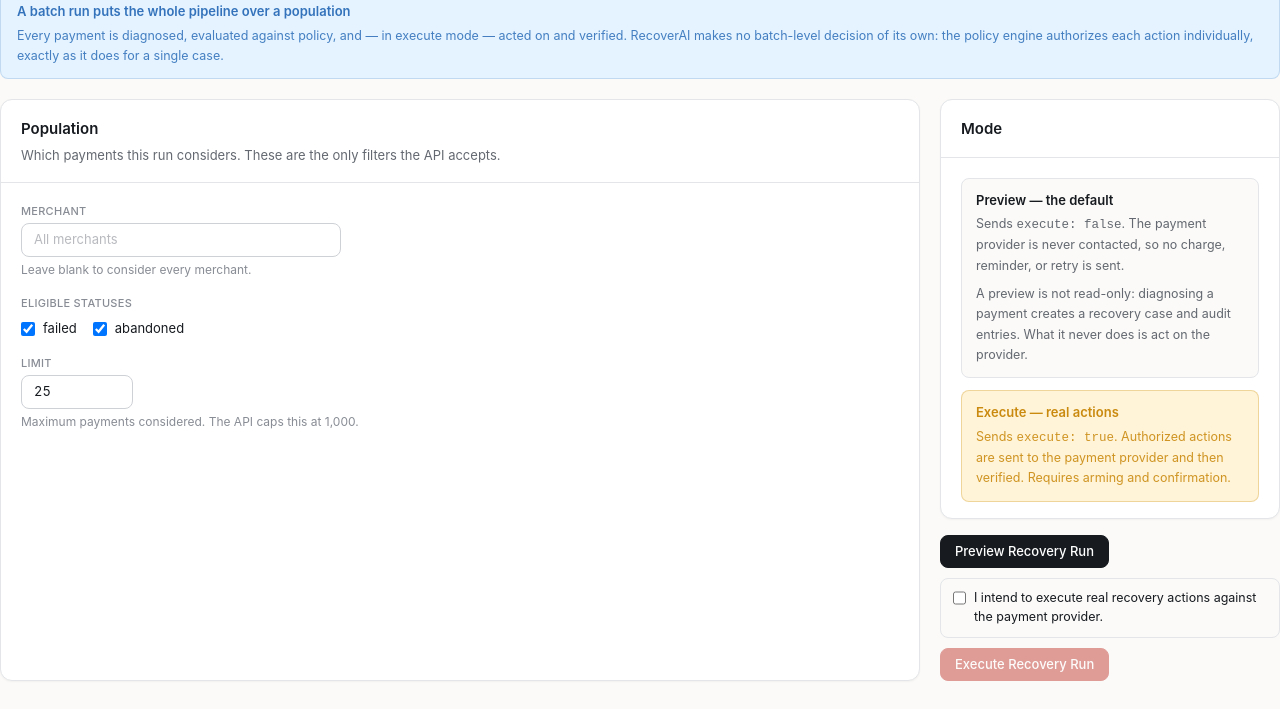
Batch Recovery — duplicate submission and retry › the error is shown and no success is implied
What coordinates should you click on to do the following:
click the button "Preview Recovery Run"
I would click on:
 (1024, 552)
Its box is left=940, top=535, right=1109, bottom=568.
(page scrolled)
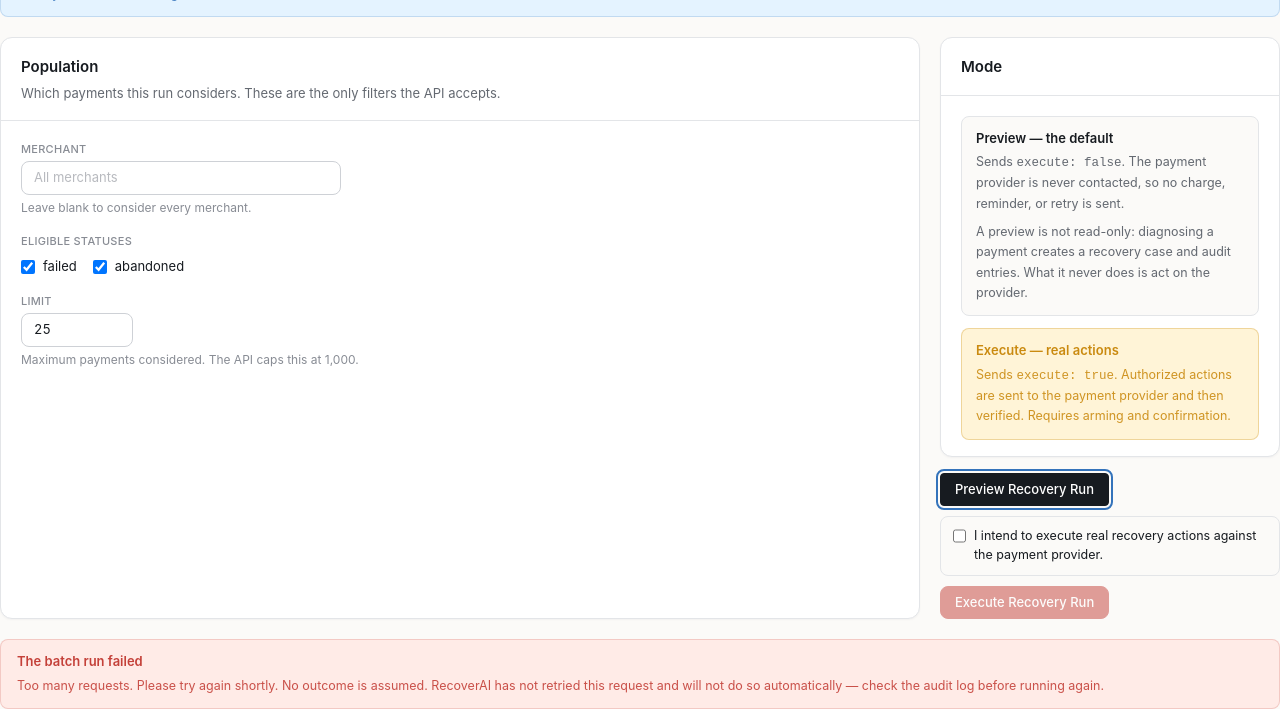
Expected: the message shows "Too many requests", left=17, top=678, right=278, bottom=693
